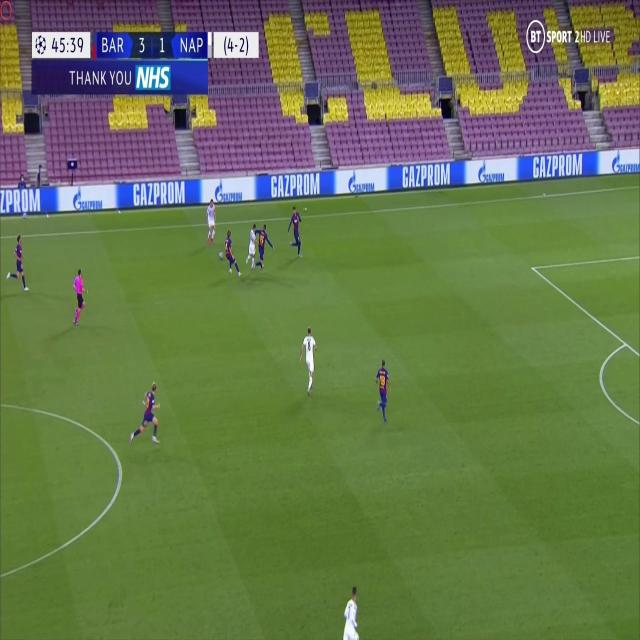ball: (218, 249, 223, 259)
player: (129, 380, 163, 447), (300, 323, 318, 393), (374, 356, 391, 423), (10, 229, 28, 291), (342, 582, 360, 640), (71, 266, 87, 327), (288, 202, 304, 257), (223, 228, 241, 276), (256, 222, 274, 268), (244, 222, 259, 270), (204, 195, 218, 244)
